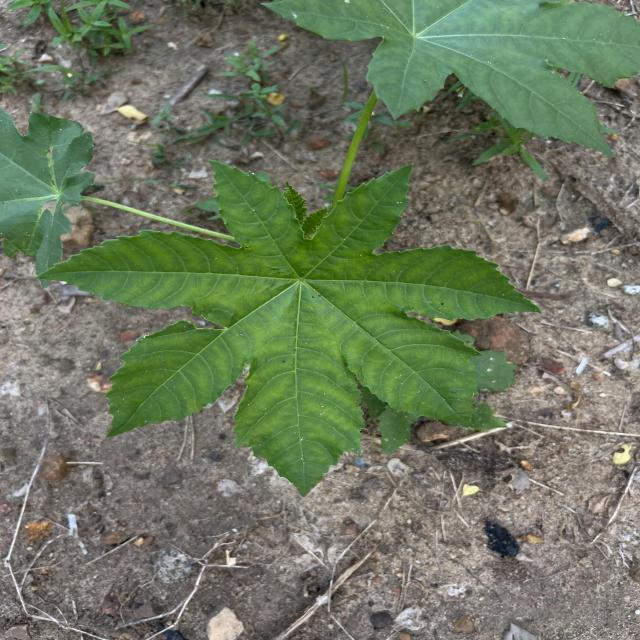Ricinus communis linn: (30, 155, 544, 500)
